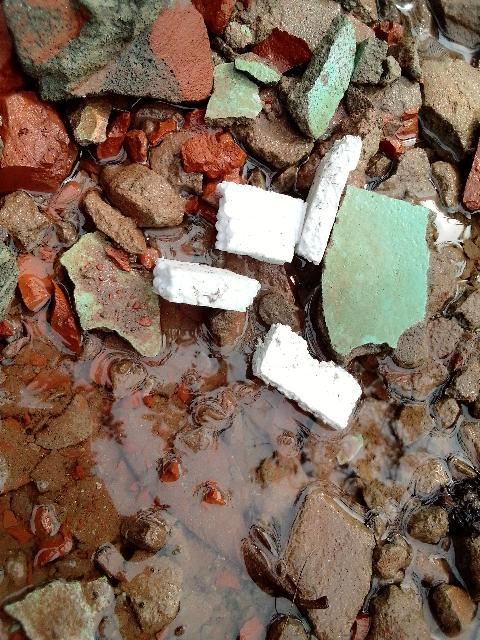cocksheet: (255, 333, 372, 432), (208, 183, 306, 269), (148, 258, 260, 316)
